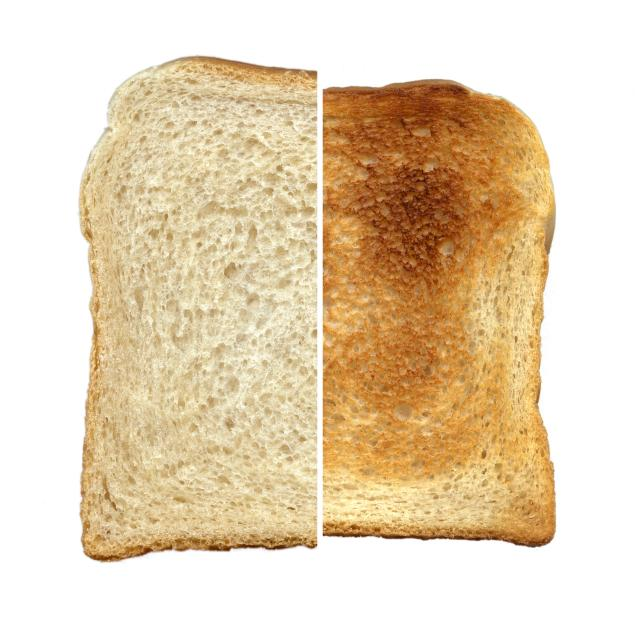Bread: (80, 57, 318, 560), (324, 81, 555, 545)
